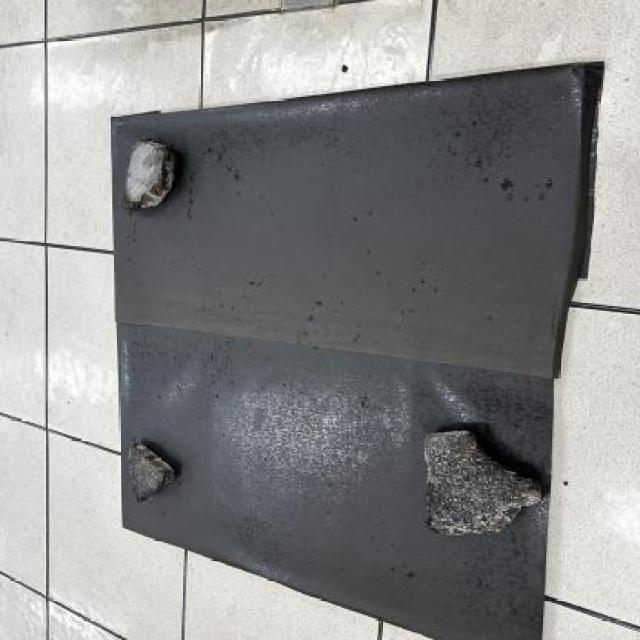Road Debris: (432, 468, 522, 518), (130, 446, 164, 500), (144, 141, 174, 174)
